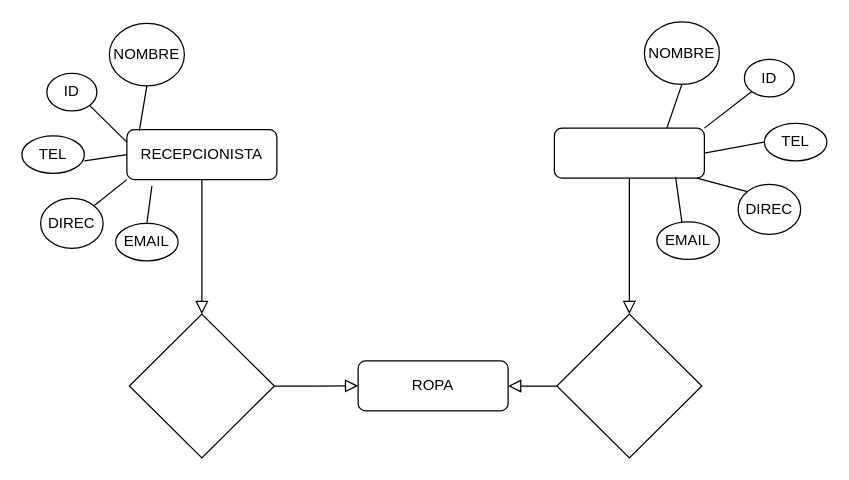
The diagram is 849 pixels wide and 480 high, and some of its shapes have lost their labels. Here are the shapes that lost their labels. From the top down, the centre of each, then its label:
the point at 628,152: CLIENTE
the point at 201,385: RECIBIR
the point at 629,385: ENTREGAR
